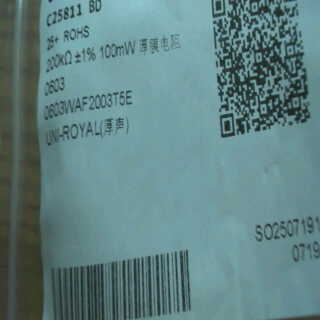200kR: (40, 45, 74, 76)
